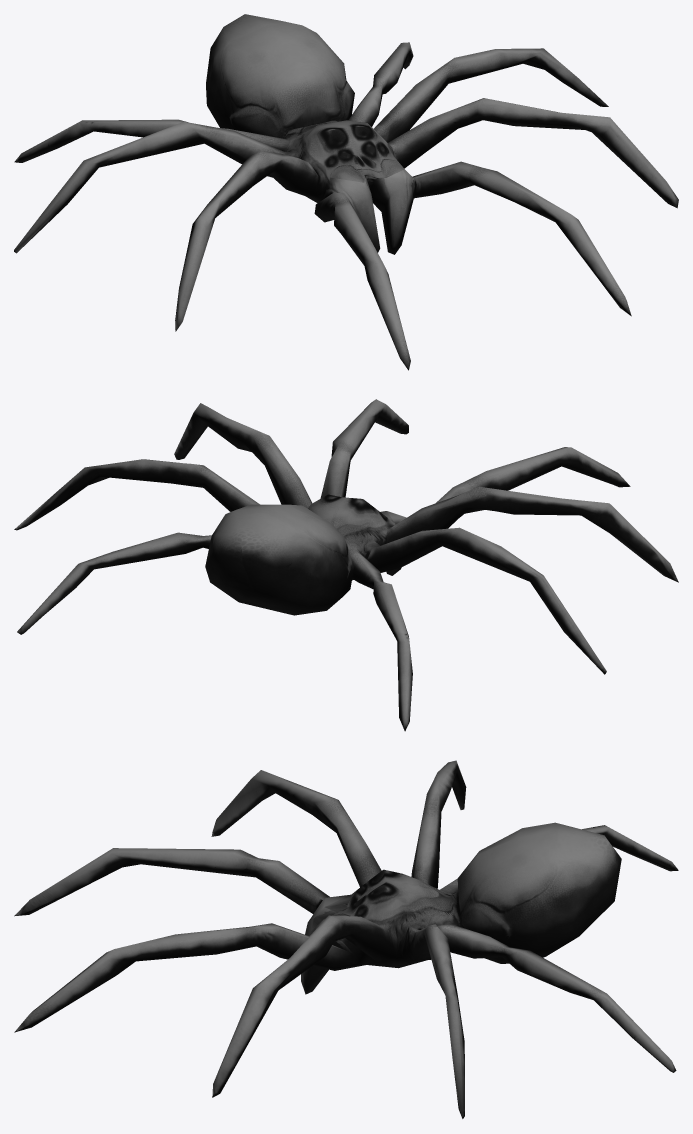
The model's file is Spider.fbx.
3 renders of one model, top to bottom at view 1: azimuth 30°, elevation 25°; view 2: azimuth 150°, elevation 25°; view 3: azimuth 270°, elevation 25°, orthographic. The views are drawn at different scales.
Parts seen in each view (by area): view 1: Spider; view 2: Spider; view 3: Spider.
Boxes of the visible parts, x1=… form: Spider: x1=14, y1=14, x2=678, y2=370; Spider: x1=14, y1=399, x2=678, y2=731; Spider: x1=14, y1=760, x2=678, y2=1118.
Bounding box in the file's own units: 258 × 61.28 × 234.
1 material, 1 textured.
